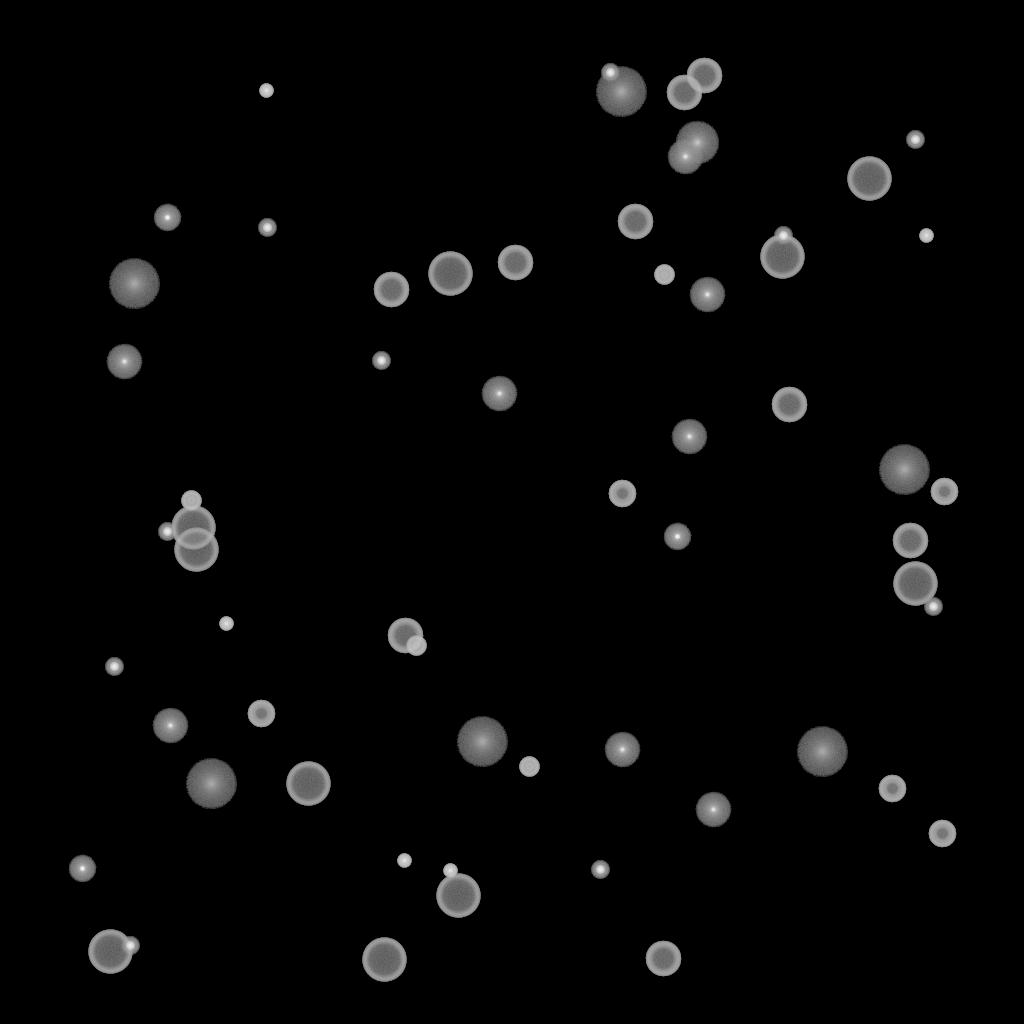depth:-10: (663, 523, 691, 551), (153, 204, 181, 232), (68, 855, 96, 883)
depth:-20: (158, 523, 176, 541), (258, 219, 276, 237), (372, 352, 390, 370), (774, 227, 792, 245), (105, 658, 123, 676), (906, 131, 924, 149), (601, 64, 619, 82), (121, 937, 139, 955), (591, 861, 609, 879), (924, 598, 942, 616)
depth:-30: (919, 229, 933, 243), (443, 864, 457, 878), (259, 84, 273, 98), (219, 617, 233, 631), (397, 854, 411, 868)
depth:-40: (654, 265, 674, 285), (181, 491, 201, 511), (519, 757, 539, 777), (406, 636, 426, 656)
depth:-50: (878, 775, 906, 803), (247, 700, 275, 728), (930, 478, 958, 506), (608, 480, 636, 508), (928, 820, 956, 848)
depth:-60: (617, 204, 653, 240), (892, 523, 928, 559), (645, 941, 681, 977), (387, 618, 423, 654), (373, 272, 409, 308), (686, 58, 722, 94), (771, 387, 807, 423), (666, 75, 702, 111), (497, 245, 533, 281)
depth:-70: (893, 562, 937, 606), (436, 874, 480, 918), (847, 157, 891, 201), (286, 762, 330, 806), (171, 506, 215, 550), (88, 930, 132, 974), (362, 938, 406, 982), (174, 528, 218, 572), (760, 235, 804, 279), (428, 252, 472, 296)
depth:0: (671, 419, 707, 455), (481, 376, 517, 412), (667, 139, 703, 175), (689, 277, 725, 313), (106, 344, 142, 380), (152, 708, 188, 744), (695, 792, 731, 828), (604, 732, 640, 768)
depth:10: (675, 121, 719, 165)
depth:20: (796, 727, 848, 777), (185, 759, 237, 809), (878, 445, 930, 495), (108, 259, 160, 309), (456, 717, 508, 767), (595, 67, 647, 117)
